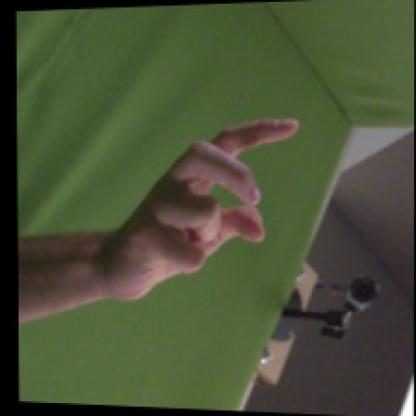Hand: (102, 119, 298, 301)
